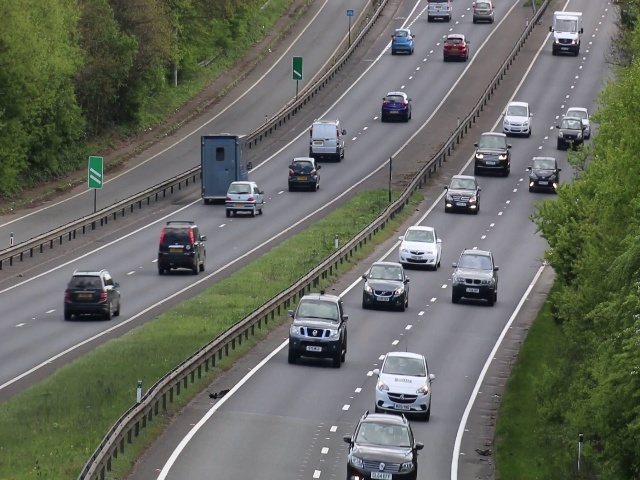car: (343, 412, 417, 480), (287, 293, 342, 363), (59, 269, 124, 318), (376, 353, 431, 410), (452, 249, 502, 302), (157, 223, 207, 275), (361, 263, 410, 308), (400, 226, 440, 270), (199, 130, 223, 202), (223, 178, 263, 217), (476, 131, 508, 176), (309, 120, 345, 160), (548, 15, 581, 56), (526, 158, 558, 194), (288, 158, 320, 194), (446, 175, 478, 210), (555, 117, 586, 150), (379, 90, 413, 119), (503, 100, 531, 134), (443, 32, 470, 63), (424, 1, 452, 20), (391, 30, 413, 54), (471, 1, 495, 21)
